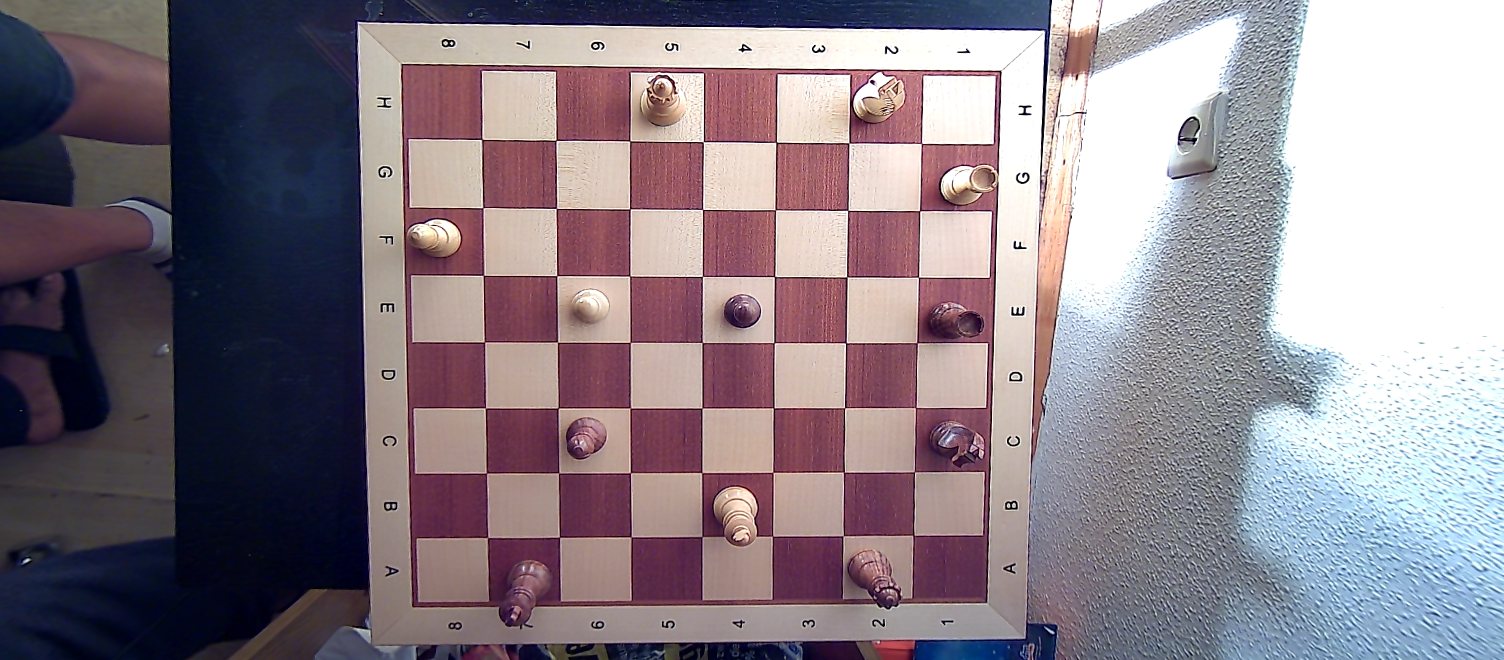black-bishop: (562, 414, 610, 466)
black-king: (495, 549, 556, 628)
black-knight: (923, 414, 985, 470)
black-pawn: (722, 289, 764, 333)
black-queen: (848, 547, 903, 611)
black-rook: (925, 298, 988, 341)
white-bishop: (407, 213, 463, 265)
white-king: (709, 480, 761, 549)
white-knight: (854, 70, 909, 127)
white-pawn: (566, 287, 612, 328)
white-queen: (638, 73, 689, 130)
white-rook: (935, 159, 1003, 208)
